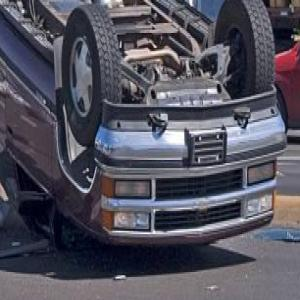severe: (0, 0, 289, 267)
